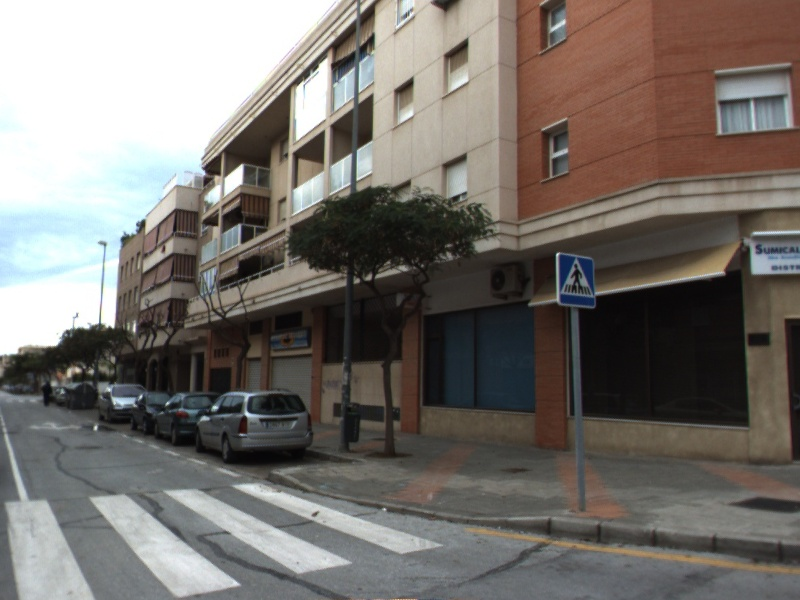STRAIGHT_LEFT_RIGHT: (26, 419, 86, 433)
